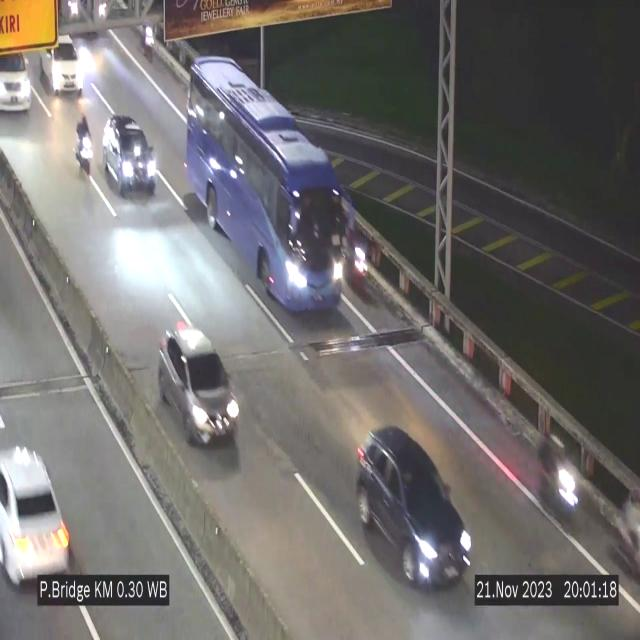Bus: (185, 55, 346, 319)
Car: (357, 427, 471, 585), (0, 443, 81, 591), (158, 322, 240, 442), (103, 114, 158, 196), (42, 21, 92, 98), (0, 34, 40, 117)
Motorcycle: (540, 424, 576, 536), (609, 478, 640, 588), (350, 226, 374, 301), (138, 8, 162, 72), (75, 112, 96, 180)
